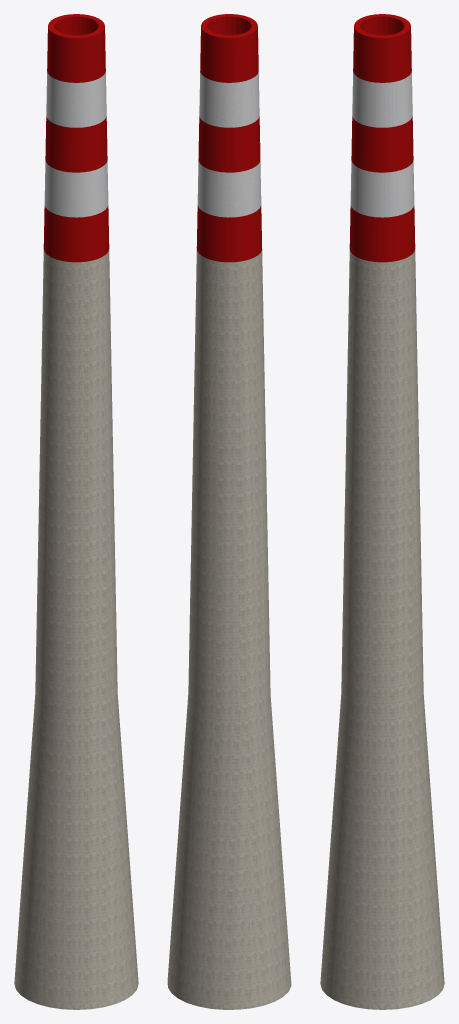
The model's file is yancong.fbx.
3 renders of one model, left to right at view 1: azimuth 90°, elevation 25°; view 2: azimuth 150°, elevation 25°; view 3: azimuth 270°, elevation 25°, orthographic.
Visible parts, largest first — view 1: 对象002, 对象001, 对象; view 2: 对象002, 对象001, 对象; view 3: 对象002, 对象001, 对象.
Boxes of the visible parts, x1=… form: 对象002: x1=14, y1=249, x2=138, y2=1009; 对象001: x1=43, y1=14, x2=109, y2=262; 对象: x1=44, y1=71, x2=108, y2=217; 对象002: x1=167, y1=248, x2=291, y2=1009; 对象001: x1=196, y1=14, x2=262, y2=262; 对象: x1=197, y1=71, x2=261, y2=217; 对象002: x1=320, y1=249, x2=444, y2=1009; 对象001: x1=349, y1=14, x2=415, y2=262; 对象: x1=350, y1=71, x2=414, y2=217.
Size of the model in its own units: 20.41 by 174 by 20.41.
Materials: 3 (2 with a texture image).
